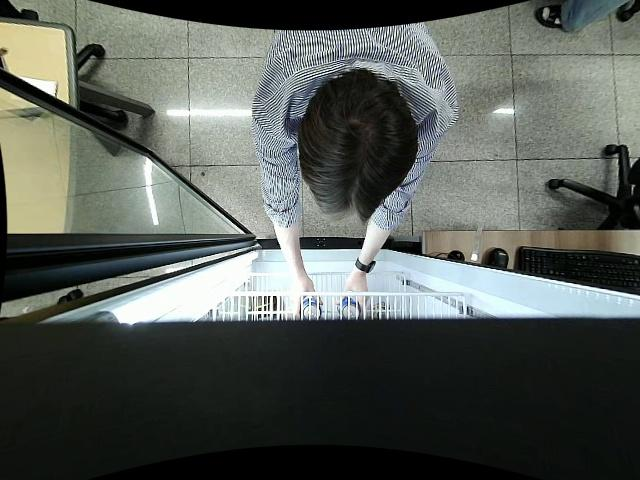00_hand: (337, 276, 370, 317), (292, 276, 323, 317)
